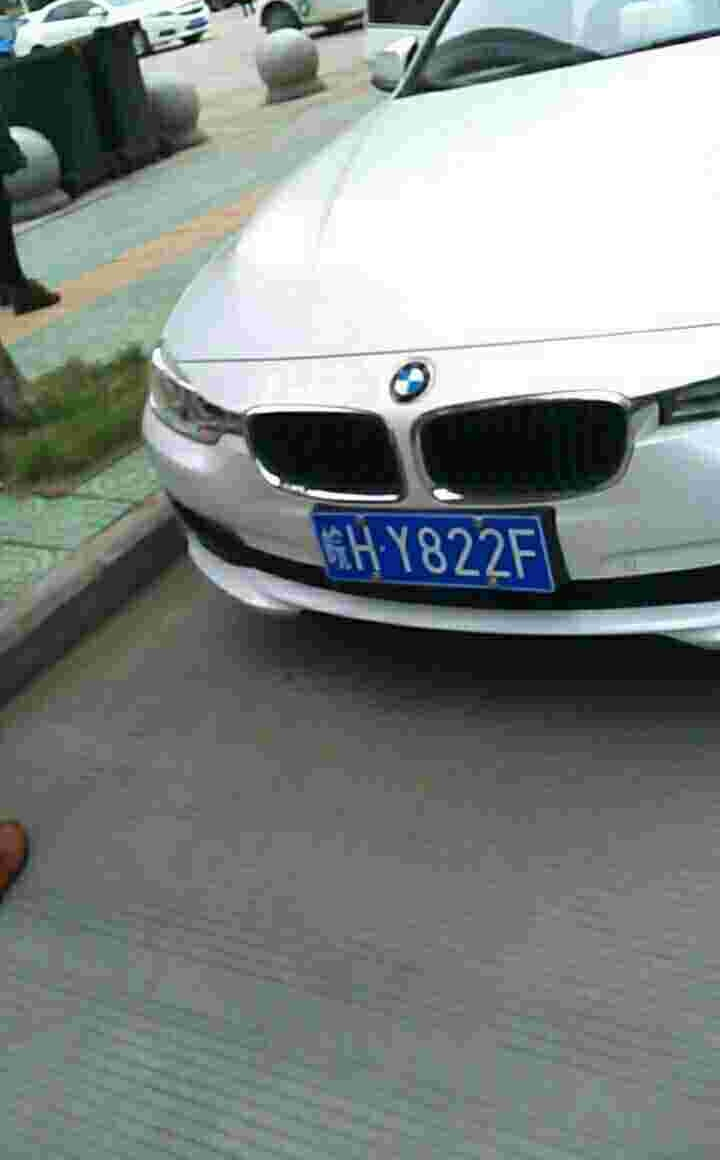license_plate: (307, 501, 552, 594)
